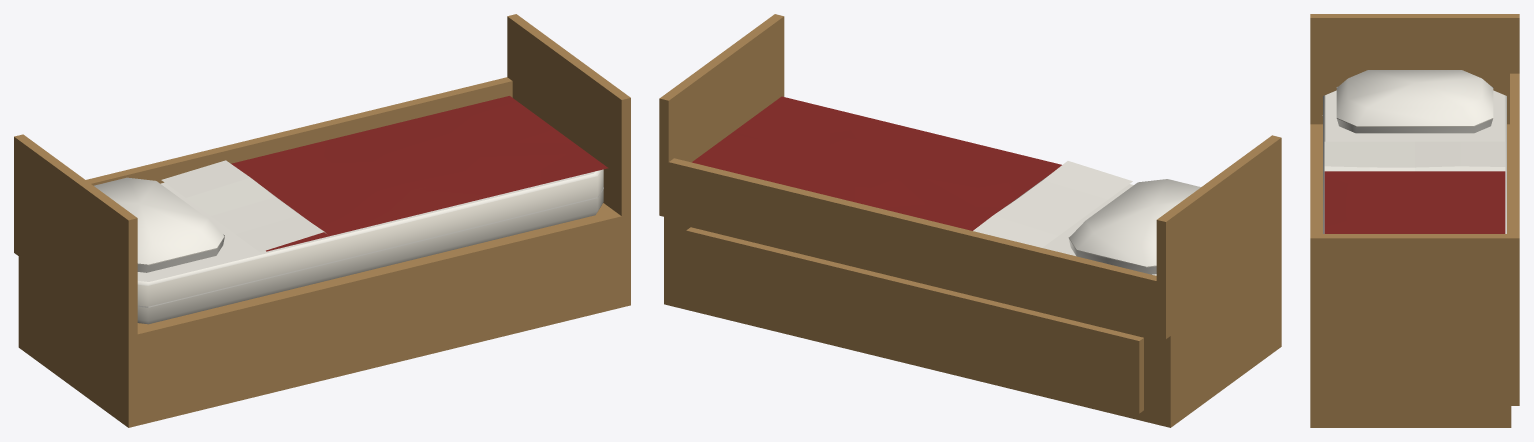
File: parametric-berth-2nd-pub.glb
3 views of the same model, side by side, from view 1: azimuth 30°, elevation 25°; view 2: azimuth 150°, elevation 25°; view 3: azimuth 270°, elevation 25° (orthographic). The views are drawn at different scales.
Visible parts, largest first — view 1: parametric-berth-2nd-pub; view 2: parametric-berth-2nd-pub; view 3: parametric-berth-2nd-pub.
Boxes of the visible parts, <box> form: parametric-berth-2nd-pub: <box>14,14,630,427</box>; parametric-berth-2nd-pub: <box>659,14,1281,427</box>; parametric-berth-2nd-pub: <box>1310,14,1519,427</box>.
Size of the model in its own units: 1.9 by 0.75 by 0.75.
